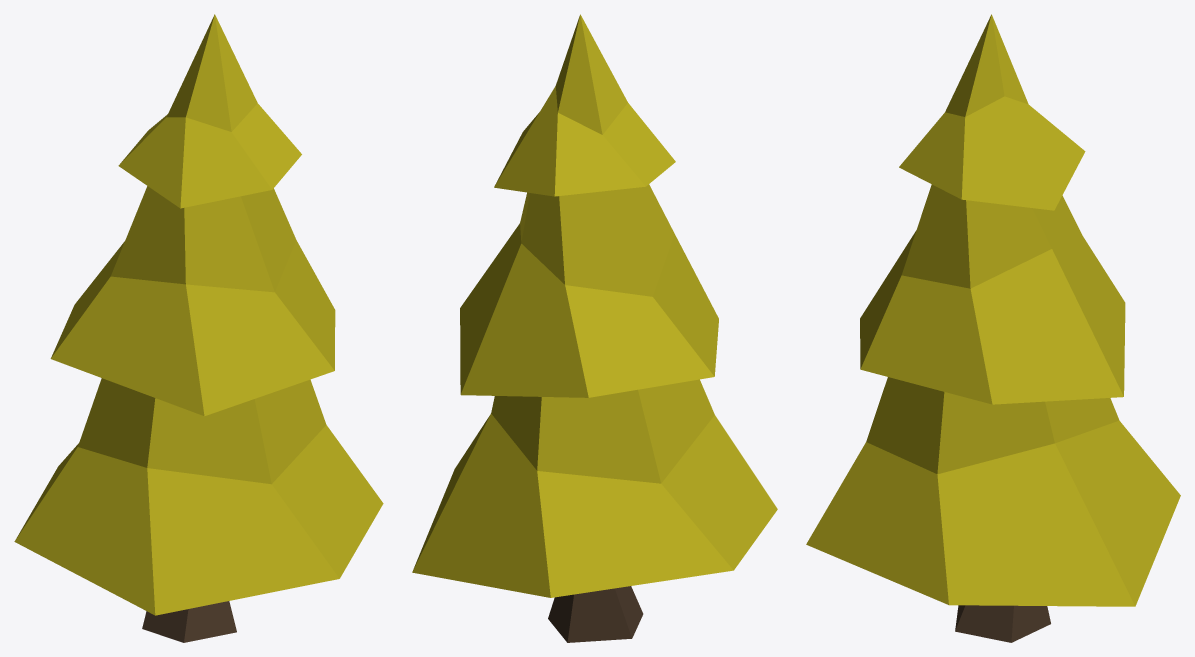
The model's file is Tree2.fbx.
The picture shows the model from 3 angles, left to right: view 1: azimuth 30°, elevation 25°; view 2: azimuth 150°, elevation 25°; view 3: azimuth 270°, elevation 25°; orthographic projection. The views are drawn at different scales.
Visible parts, largest first — view 1: Tree.001; view 2: Tree.001; view 3: Tree.001.
Boxes of the visible parts, left/top/right/bottom form: Tree.001: left=14, top=14, right=383, bottom=642; Tree.001: left=412, top=14, right=777, bottom=642; Tree.001: left=806, top=14, right=1180, bottom=642.
Bounding box in the file's own units: 11.25 × 20.12 × 11.06.
